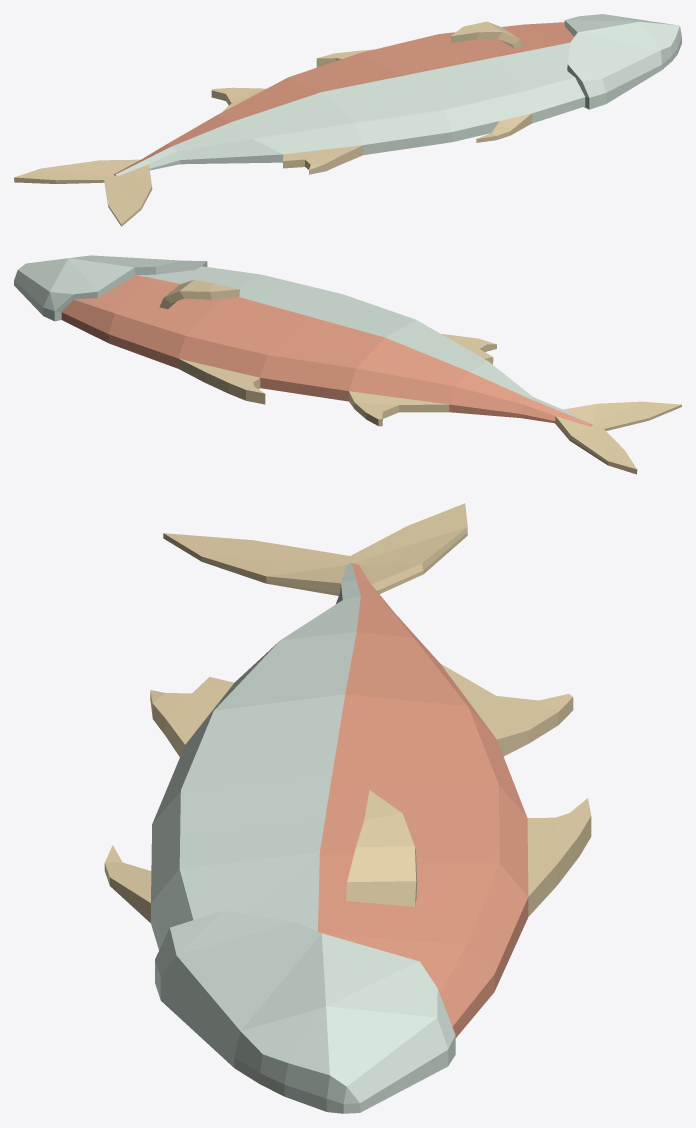
The model's file is Fish.glb.
3 renders of one model, top to bottom at view 1: azimuth 30°, elevation 25°; view 2: azimuth 150°, elevation 25°; view 3: azimuth 270°, elevation 25°, orthographic. The views are drawn at different scales.
Parts seen in each view (by area): view 1: Fish; view 2: Fish; view 3: Fish.
Part boxes in pixels (left/top/right/bottom): Fish: left=14, top=14, right=681, bottom=226; Fish: left=14, top=255, right=681, bottom=474; Fish: left=104, top=503, right=591, bottom=1113.
Bounding box in the file's own units: 3.2 × 0.303 × 1.06.
